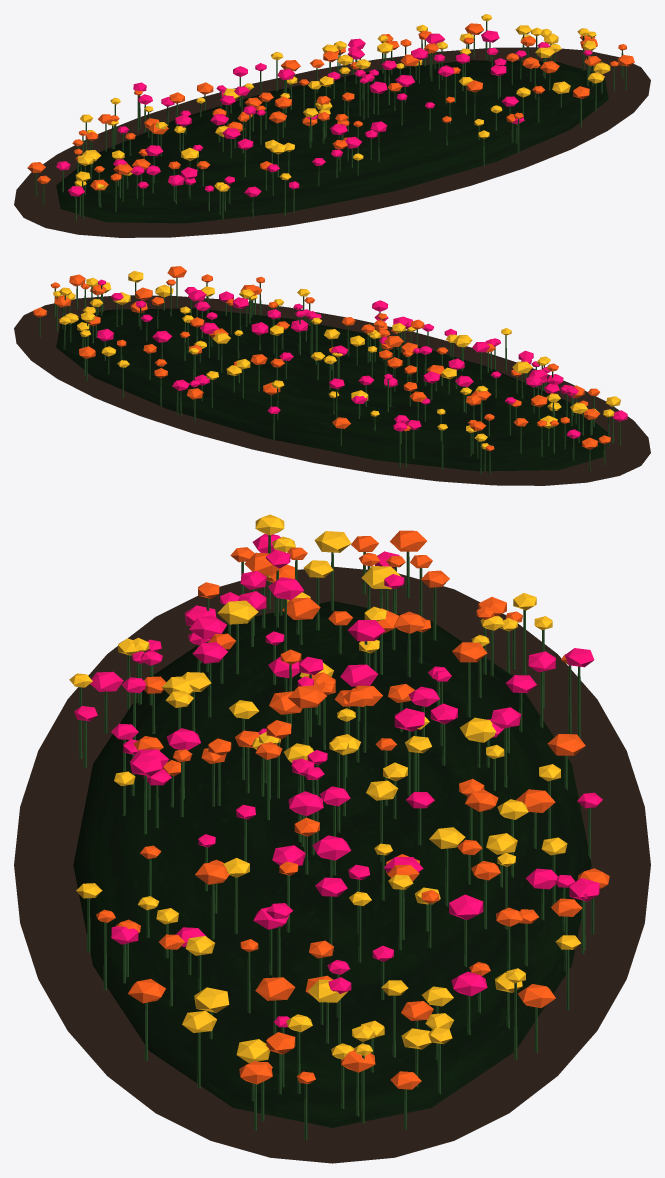
Rendered from flower-bed-5.glb.
3 views of the same model, one above another, from view 1: azimuth 30°, elevation 25°; view 2: azimuth 150°, elevation 25°; view 3: azimuth 270°, elevation 25° (orthographic). The views are drawn at different scales.
Visible parts, largest first — view 1: flower-bed-5_MeshStandardMaterial (×4); view 2: flower-bed-5_MeshStandardMaterial (×4); view 3: flower-bed-5_MeshStandardMaterial (×4).
Part boxes in pixels (bbox=[...]): flower-bed-5_MeshStandardMaterial (×4): bbox=[14, 14, 650, 237]; flower-bed-5_MeshStandardMaterial (×4): bbox=[14, 266, 650, 485]; flower-bed-5_MeshStandardMaterial (×4): bbox=[14, 514, 650, 1163].
Size of the model in its own units: 5.1 by 0.5833 by 2.3.
4 materials, 1 textured.
